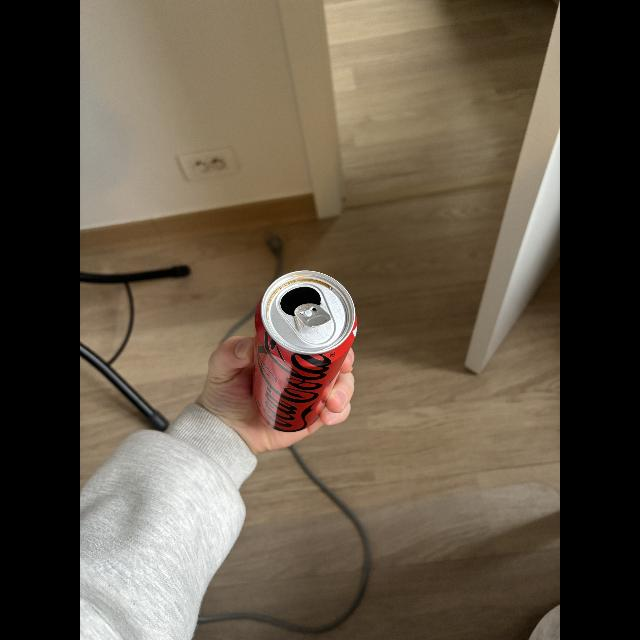Metal: (252, 270, 362, 432)
